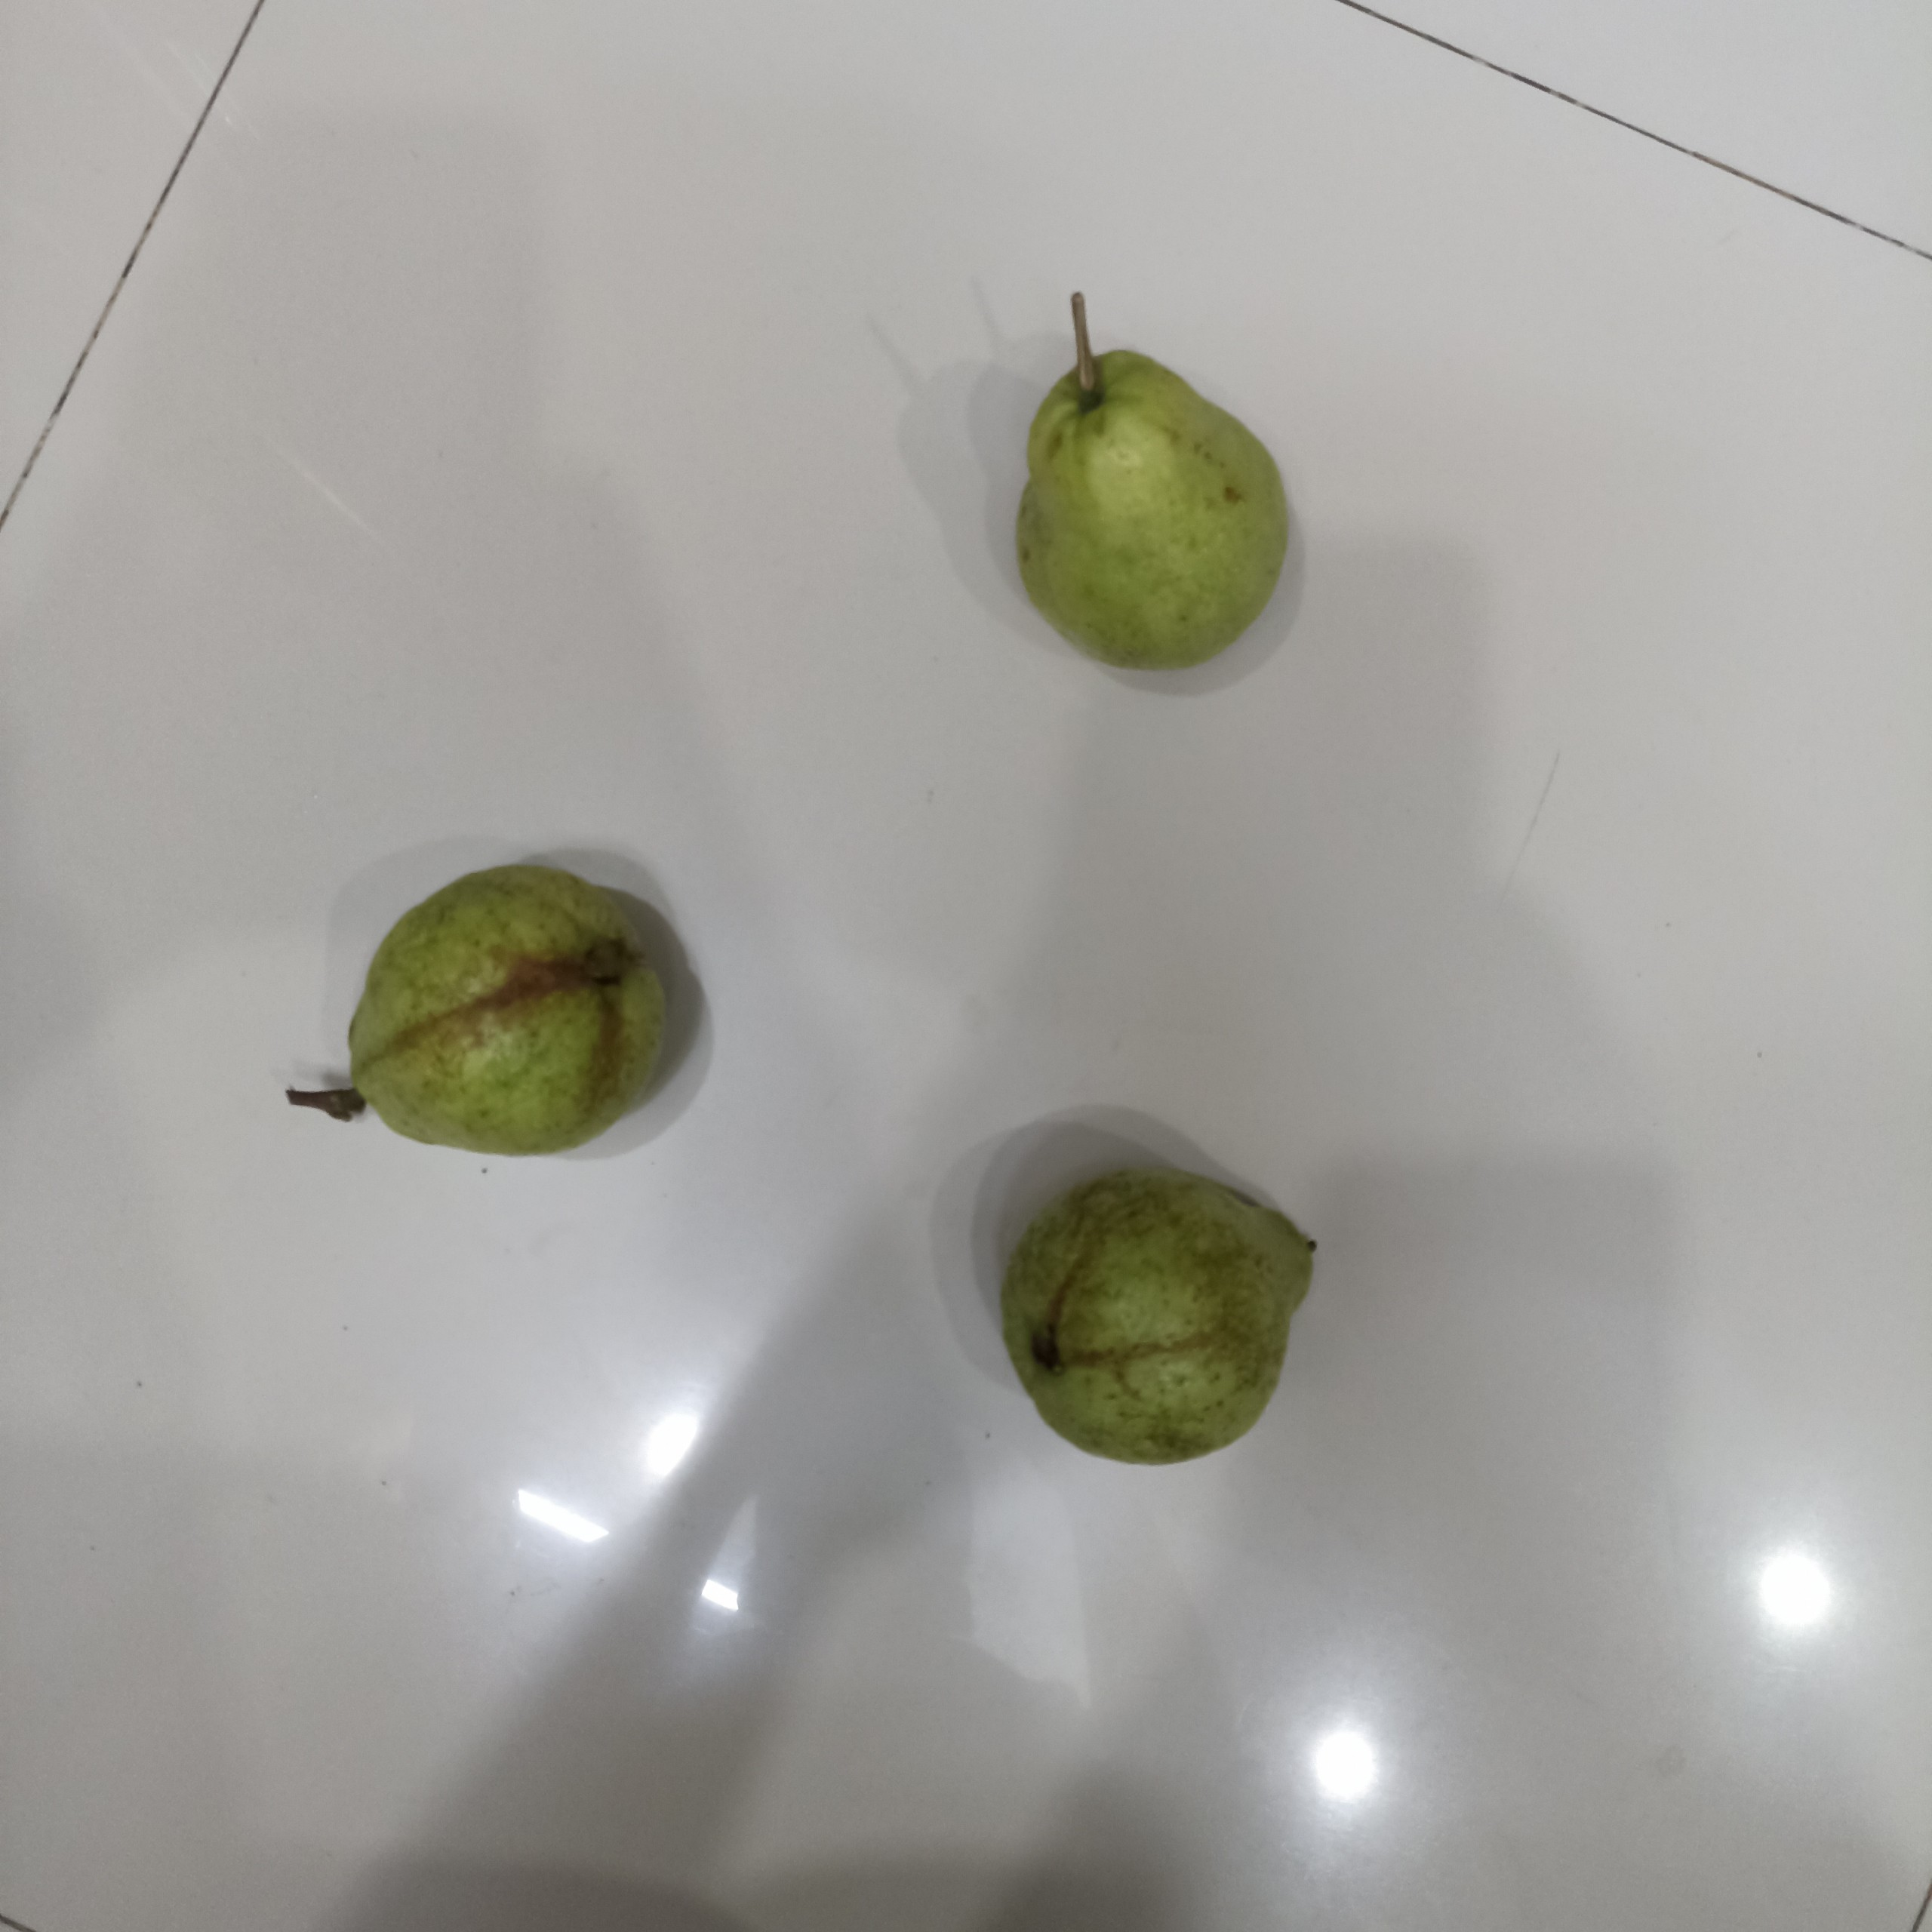Oi: (338, 863, 679, 1166), (1000, 1169, 1318, 1467), (1012, 343, 1292, 671)
